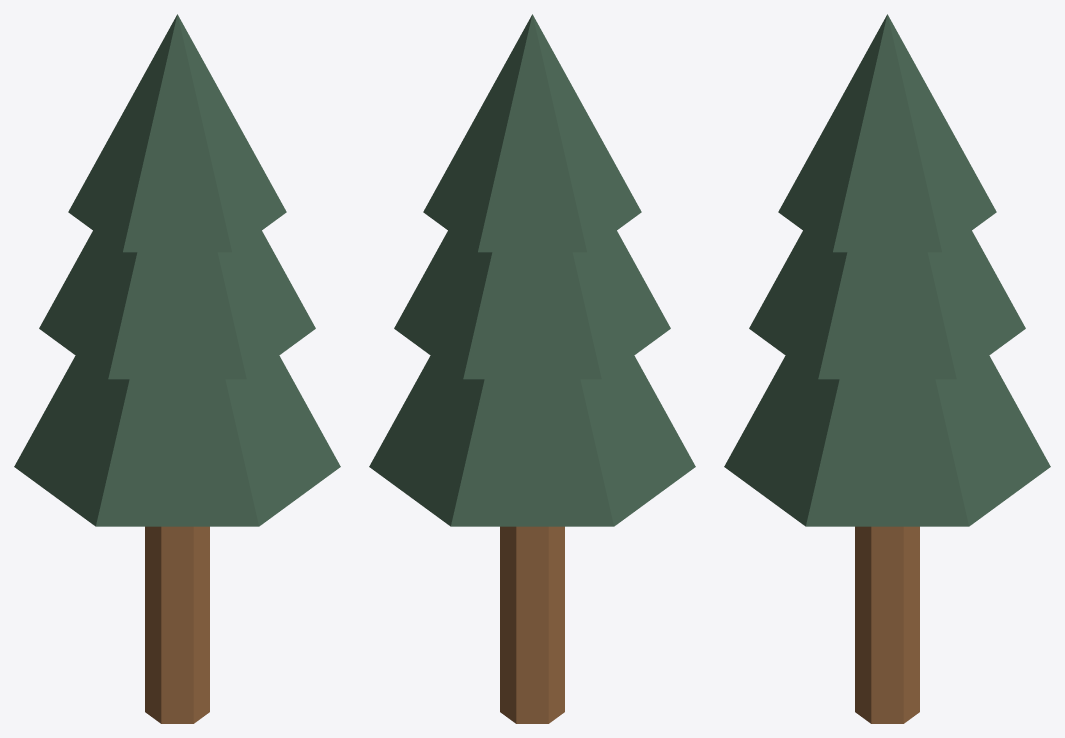
Rendered from PINHEIRO #1.fbx.
3 renders of one model, left to right at view 1: azimuth 30°, elevation 25°; view 2: azimuth 150°, elevation 25°; view 3: azimuth 270°, elevation 25°, orthographic.
Parts seen in each view (by area): view 1: Cone, Cone.001, Cone.002, Cylinder; view 2: Cone, Cone.001, Cone.002, Cylinder; view 3: Cone, Cone.001, Cone.002, Cylinder.
Boxes of the visible parts, x1,y1,x2,y2 form: Cone: (14,355,340,526); Cone.001: (39,230,315,379); Cone.002: (68,14,286,252); Cylinder: (145,526,209,723); Cone: (369,355,695,526); Cone.001: (394,230,670,379); Cone.002: (423,14,641,252); Cylinder: (500,526,564,723); Cone: (724,355,1050,526); Cone.001: (749,230,1025,379); Cone.002: (778,14,996,252); Cylinder: (855,526,919,723).
Size of the model in its own units: 237 by 646 by 274.
